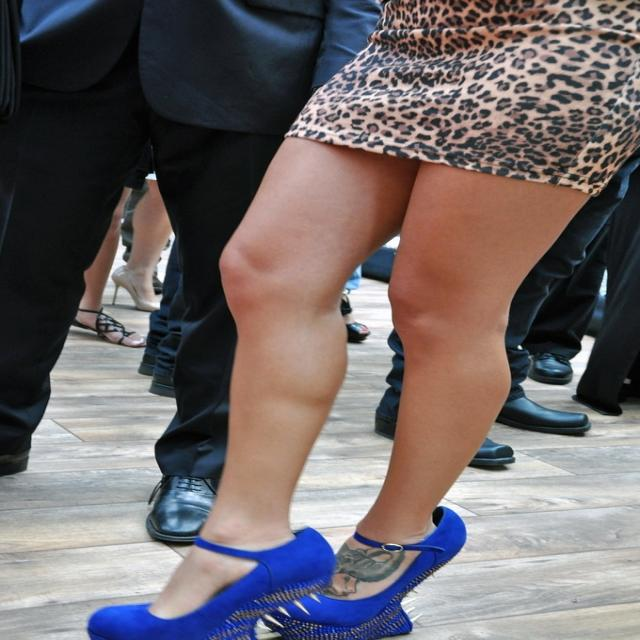piel: (151, 134, 592, 620)
